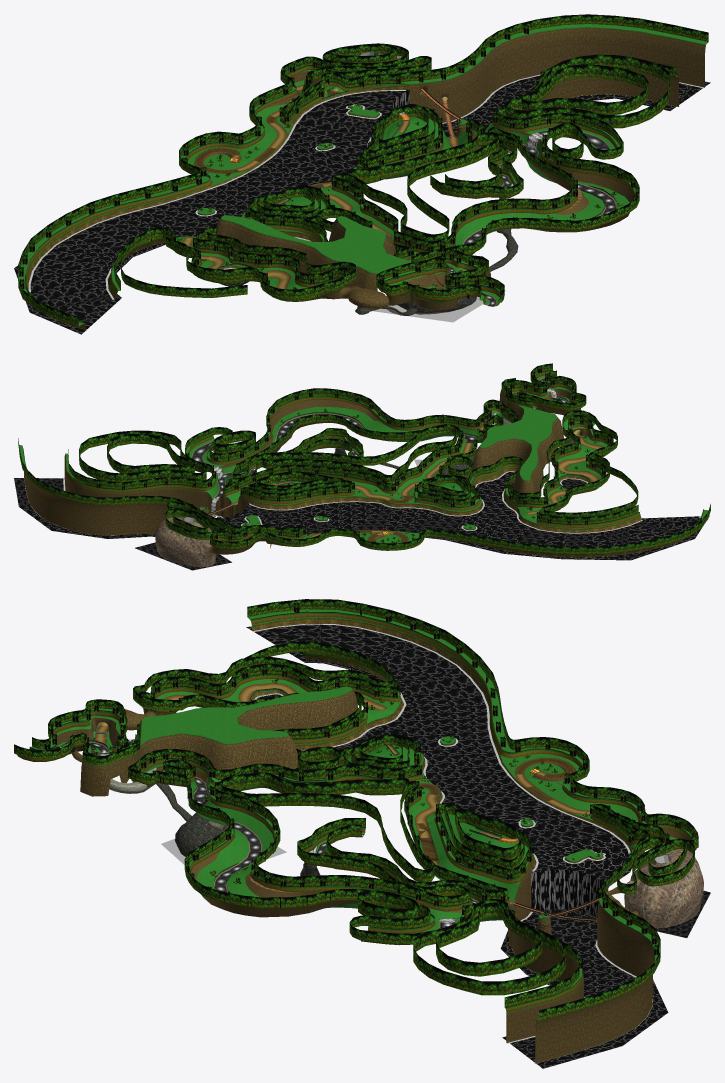
3 views of the same model, one above another, from view 1: azimuth 30°, elevation 25°; view 2: azimuth 150°, elevation 25°; view 3: azimuth 270°, elevation 25° (orthographic). The views are drawn at different scales.
Parts seen in each view (by area): view 1: ForestO, Water2O.001, WallO.001, Wall2O, GrassO.001, TreeO, RoadO.001, WaveO, Wall5O, WaterO.001, TireskidO, Water3O; view 2: ForestO, Water2O.001, Wall2O, WallO.001, GrassO.001, TreeO, Wall4O, RoadO.001, WaveO, WaterO.001, Grass3O, Mud3O; view 3: ForestO, Water2O.001, Wall2O, WallO.001, GrassO.001, TreeO, Wall4O, Waterfall2O, RoadO.001, WaveO, Wall5O, WaterO.001 (+1 smaller).
Boxes of the visible parts, box(x1,y1,x2,y2) form: ForestO: box(18, 14, 708, 326); Water2O.001: box(14, 75, 710, 334); WallO.001: box(215, 33, 705, 310); Wall2O: box(25, 27, 705, 330); GrassO.001: box(18, 24, 708, 325); TreeO: box(19, 24, 639, 306); RoadO.001: box(181, 84, 458, 289); WaveO: box(28, 74, 704, 330); Wall5O: box(355, 198, 518, 315); WaterO.001: box(449, 130, 615, 306); TireskidO: box(195, 90, 339, 194); Water3O: box(373, 290, 505, 322); ForestO: box(18, 363, 710, 554); Water2O.001: box(14, 472, 709, 570); Wall2O: box(22, 370, 703, 557); WallO.001: box(24, 388, 599, 554); GrassO.001: box(19, 370, 708, 543); TreeO: box(90, 366, 701, 548); Wall4O: box(155, 516, 216, 567); RoadO.001: box(231, 424, 603, 542); WaveO: box(24, 471, 701, 557); WaterO.001: box(192, 378, 567, 498); Grass3O: box(276, 395, 590, 497); Mud3O: box(191, 378, 567, 499); ForestO: box(14, 599, 698, 1020); Water2O.001: box(246, 624, 710, 1068); Wall2O: box(17, 611, 696, 1024); WallO.001: box(56, 695, 689, 1063); GrassO.001: box(31, 609, 694, 1020); TreeO: box(28, 602, 693, 968); Wall4O: box(624, 849, 703, 928); Waterfall2O: box(531, 870, 604, 916); RoadO.001: box(95, 682, 671, 903); WaveO: box(253, 624, 653, 1063); Wall5O: box(156, 783, 320, 876); WaterO.001: box(66, 739, 502, 929).
Bounding box in the file's own units: 239194 × 25568 × 171332.
Materials: 49 (47 with a texture image).
